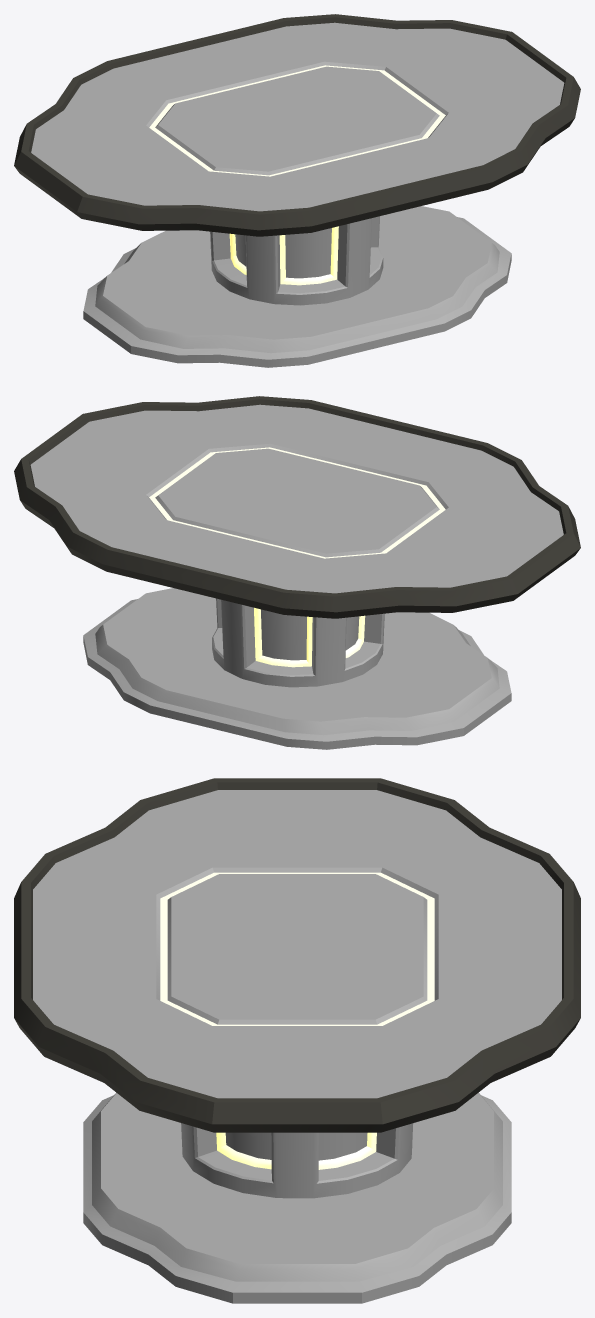
The model's file is Room_ControlRoom_Table.fbx.
3 views of the same model, one above another, from view 1: azimuth 30°, elevation 25°; view 2: azimuth 150°, elevation 25°; view 3: azimuth 270°, elevation 25° (orthographic). The views are drawn at different scales.
Parts seen in each view (by area): view 1: table; view 2: table; view 3: table.
Boxes of the visible parts, <box> form: table: <box>14,14,580,367</box>; table: <box>14,396,580,749</box>; table: <box>14,778,580,1303</box>.
Size of the model in its own units: 243 by 81.14 by 175.
